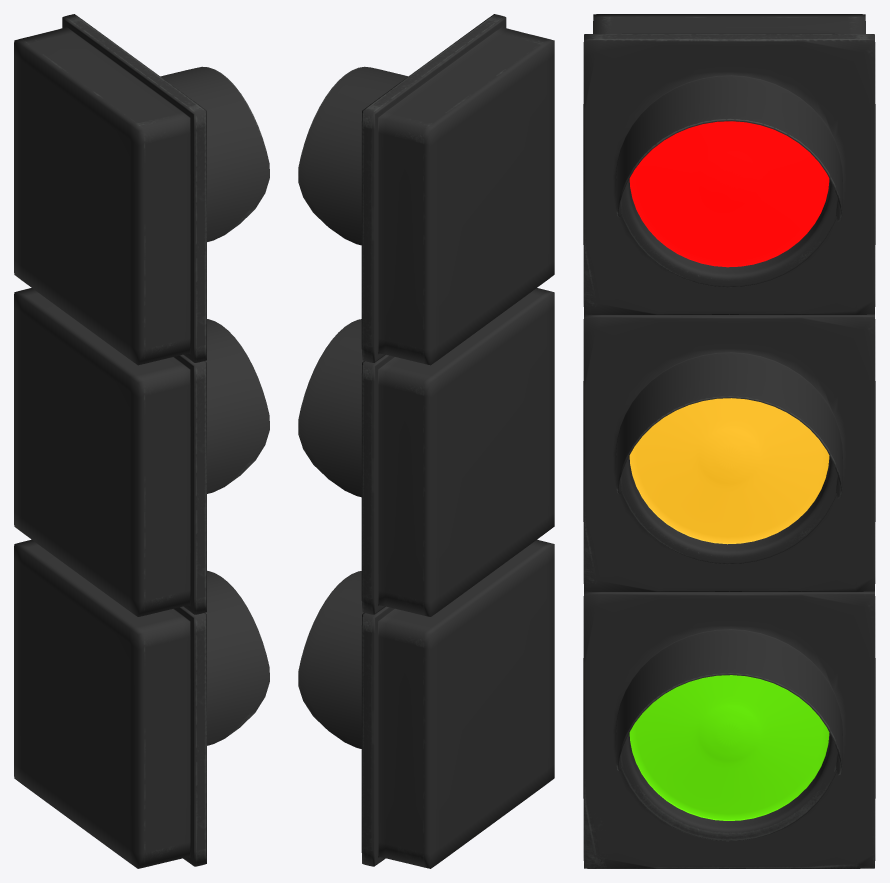
File: traffic light.glb
The picture shows the model from 3 angles, left to right: view 1: azimuth 30°, elevation 25°; view 2: azimuth 150°, elevation 25°; view 3: azimuth 270°, elevation 25°; orthographic projection. The views are drawn at different scales.
Visible parts, largest first — view 1: pCube3, pCube1, pCube2; view 2: pCube3, pCube1, pCube2; view 3: pCube3, pCube1, pCube2.
Part boxes in pixels (x1,y1,x2,y2): pCube3: [14, 14, 269, 365]; pCube1: [14, 539, 269, 868]; pCube2: [14, 288, 269, 616]; pCube3: [298, 14, 554, 365]; pCube1: [298, 539, 554, 868]; pCube2: [298, 288, 554, 616]; pCube3: [583, 14, 875, 314]; pCube1: [583, 591, 875, 868]; pCube2: [583, 314, 875, 591].
Size of the model in its own units: 0.0404 by 0.1977 by 0.0631.
6 materials, 6 textured.
